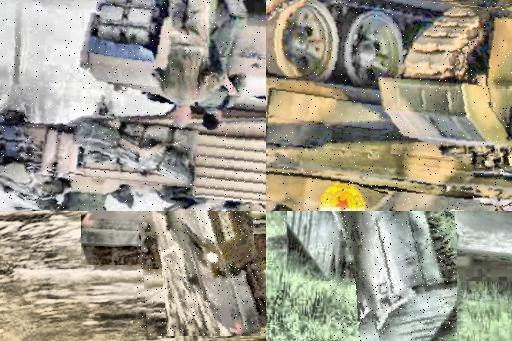tanks: (1, 1, 267, 212), (267, 1, 512, 212), (374, 10, 512, 212), (335, 212, 458, 341), (144, 212, 267, 336), (50, 107, 193, 208)
